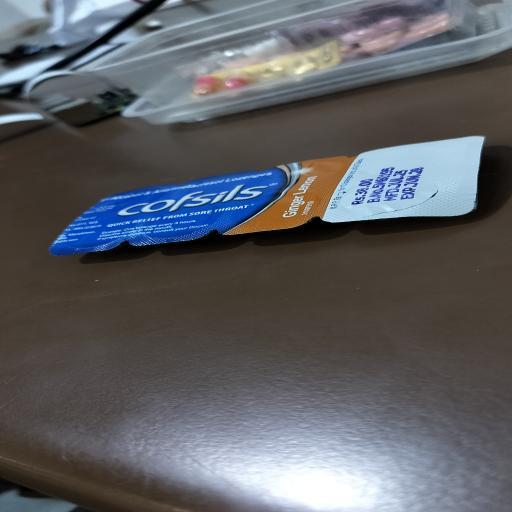cofsils: (113, 184, 276, 218)
medicine: (55, 172, 481, 250)
